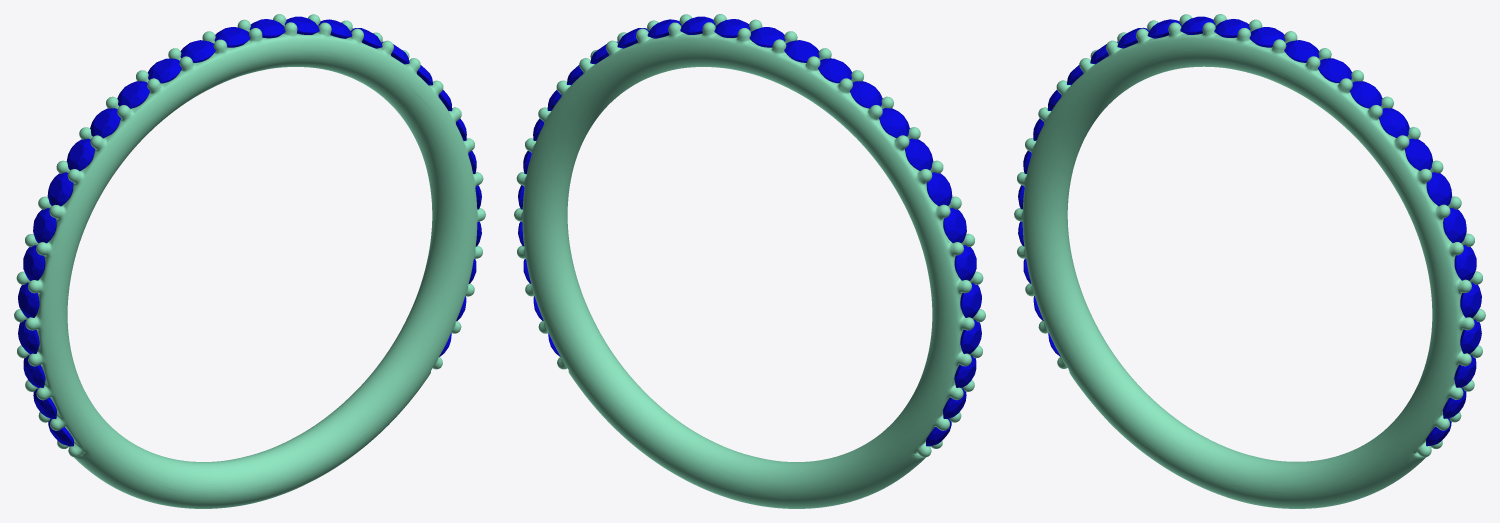
The picture shows the model from 3 angles, left to right: view 1: azimuth 30°, elevation 25°; view 2: azimuth 150°, elevation 25°; view 3: azimuth 330°, elevation 25°; orthographic projection.
Visible parts, largest first — view 1: Metal03, Diamond_Band.018, Diamond_Band.019, Diamond_Band.020, Diamond_Band.017, Diamond_Band.021, Diamond_Band.016, Diamond_Band.022, Diamond_Band.015, Diamond_Band.023, Diamond_Band.014; view 2: Metal03, Diamond_Band.019, Diamond_Band.018, Diamond_Band.020, Diamond_Band.017, Diamond_Band.021, Diamond_Band.016, Diamond_Band.022, Diamond_Band.015, Diamond_Band.023, Diamond_Band.014; view 3: Metal03, Diamond_Band.007, Diamond_Band.027, Diamond_Band.026, Diamond_Band.001, Diamond_Band.006, Diamond_Band.008, Diamond_Band.005, Diamond_Band.009, Diamond_Band.004, Diamond_Band.010.
Part boxes in pixels (x1,y1,x2,y2): Metal03: (14, 14, 485, 508); Diamond_Band.018: (90, 108, 120, 138); Diamond_Band.019: (66, 138, 94, 170); Diamond_Band.020: (47, 172, 73, 206); Diamond_Band.017: (117, 81, 149, 108); Diamond_Band.021: (33, 208, 56, 243); Diamond_Band.016: (148, 58, 181, 83); Diamond_Band.022: (23, 245, 45, 280); Diamond_Band.015: (180, 40, 215, 62); Diamond_Band.023: (18, 282, 39, 318); Diamond_Band.014: (214, 27, 250, 47); Metal03: (514, 14, 985, 508); Diamond_Band.019: (905, 138, 933, 170); Diamond_Band.018: (879, 108, 909, 138); Diamond_Band.020: (926, 172, 952, 206); Diamond_Band.017: (850, 81, 882, 108); Diamond_Band.021: (943, 208, 966, 243); Diamond_Band.016: (818, 58, 851, 83); Diamond_Band.022: (954, 245, 976, 280); Diamond_Band.015: (784, 40, 819, 62); Diamond_Band.023: (960, 282, 981, 318); Diamond_Band.014: (749, 27, 785, 47); Metal03: (1014, 14, 1485, 508); Diamond_Band.007: (1379, 108, 1409, 138); Diamond_Band.027: (1404, 138, 1432, 170); Diamond_Band.026: (1426, 172, 1452, 206); Diamond_Band.001: (1349, 81, 1382, 108); Diamond_Band.006: (1443, 208, 1466, 242); Diamond_Band.008: (1318, 58, 1351, 82); Diamond_Band.005: (1454, 245, 1476, 280); Diamond_Band.009: (1284, 40, 1319, 62); Diamond_Band.004: (1460, 282, 1481, 317); Diamond_Band.010: (1249, 27, 1285, 47).
Size of the model in its own units: 21.54 by 21.39 by 1.89.
